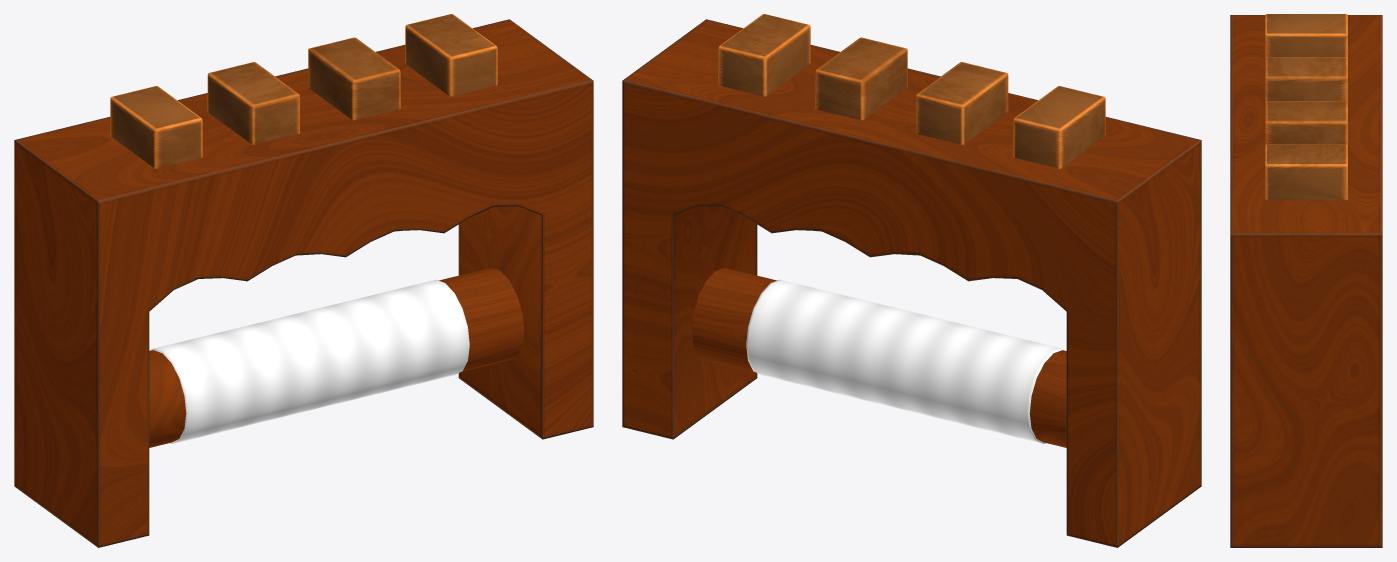
Rendered from Fist.fbx.
The picture shows the model from 3 angles, left to right: view 1: azimuth 30°, elevation 25°; view 2: azimuth 150°, elevation 25°; view 3: azimuth 270°, elevation 25°; orthographic projection. The views are drawn at different scales.
Parts seen in each view (by area): view 1: Body, Grip, Head 1, Head 2, Handle; view 2: Body, Grip, Head 1, Head 2, Handle; view 3: Body, Head 2, Head 1.
Boxes of the visible parts, x1,y1,x2,y2 form: Body: (14,19,593,547); Grip: (149,279,469,443); Head 1: (207,37,400,144); Head 2: (110,14,497,168); Handle: (149,267,524,447); Body: (622,19,1201,547); Grip: (746,279,1066,443); Head 1: (815,37,1008,144); Head 2: (718,14,1105,168); Handle: (691,267,1066,447); Body: (1230,15,1382,547); Head 2: (1265,14,1347,200); Head 1: (1265,57,1347,145).
Size of the model in its own units: 205 by 152 by 60.
1 material, 1 textured.
